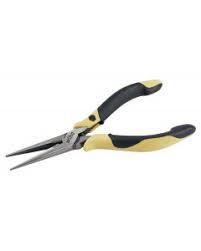pliers: (4, 78, 195, 171)
